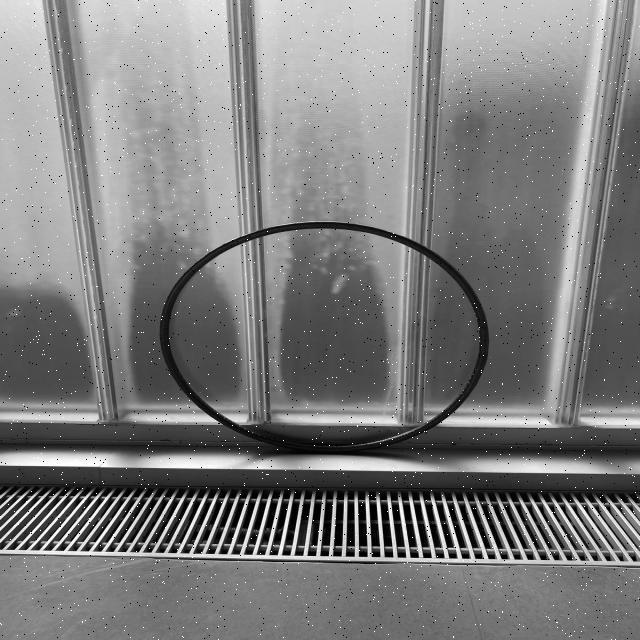Circle: (155, 218, 493, 454)
